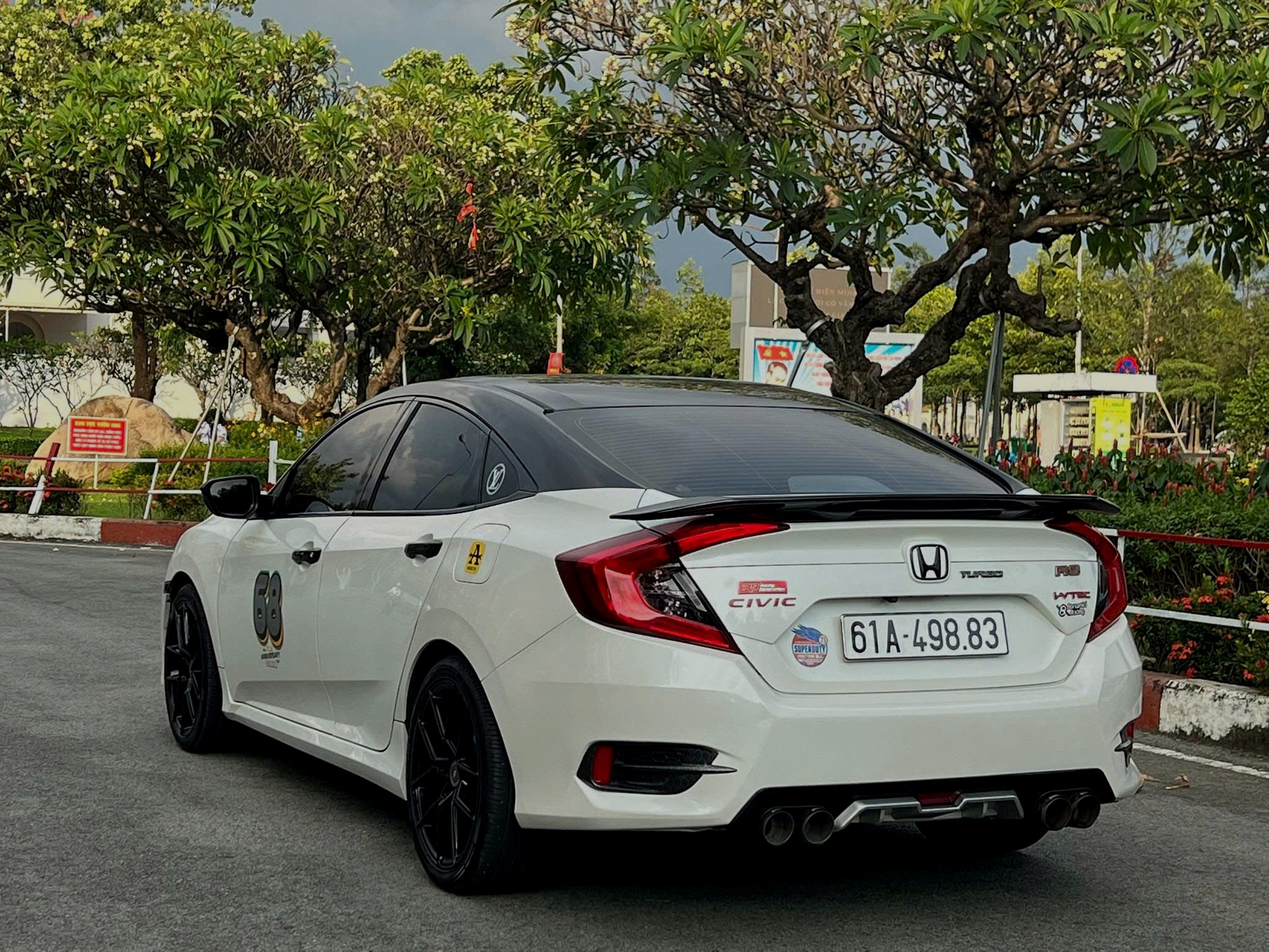Bien-so: (866, 604, 1034, 666)
